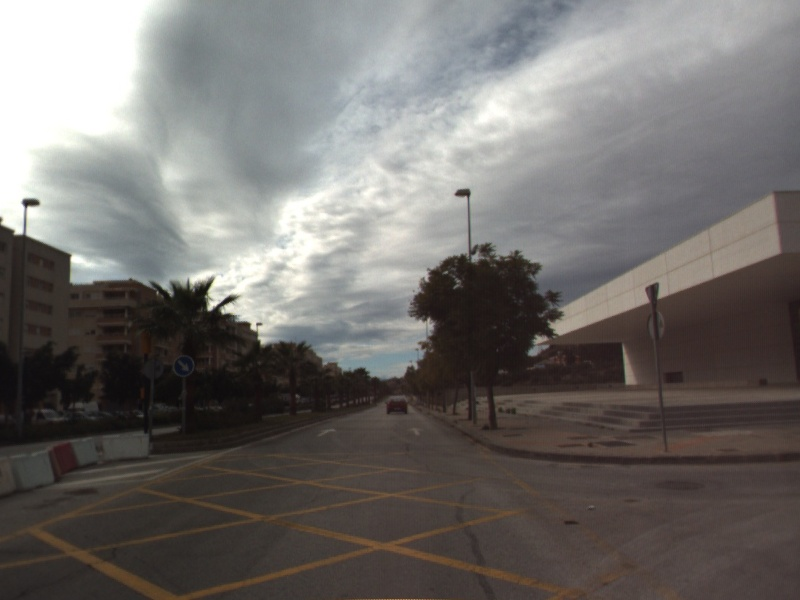STRAIGHT: (314, 426, 339, 439), (406, 425, 426, 438)
